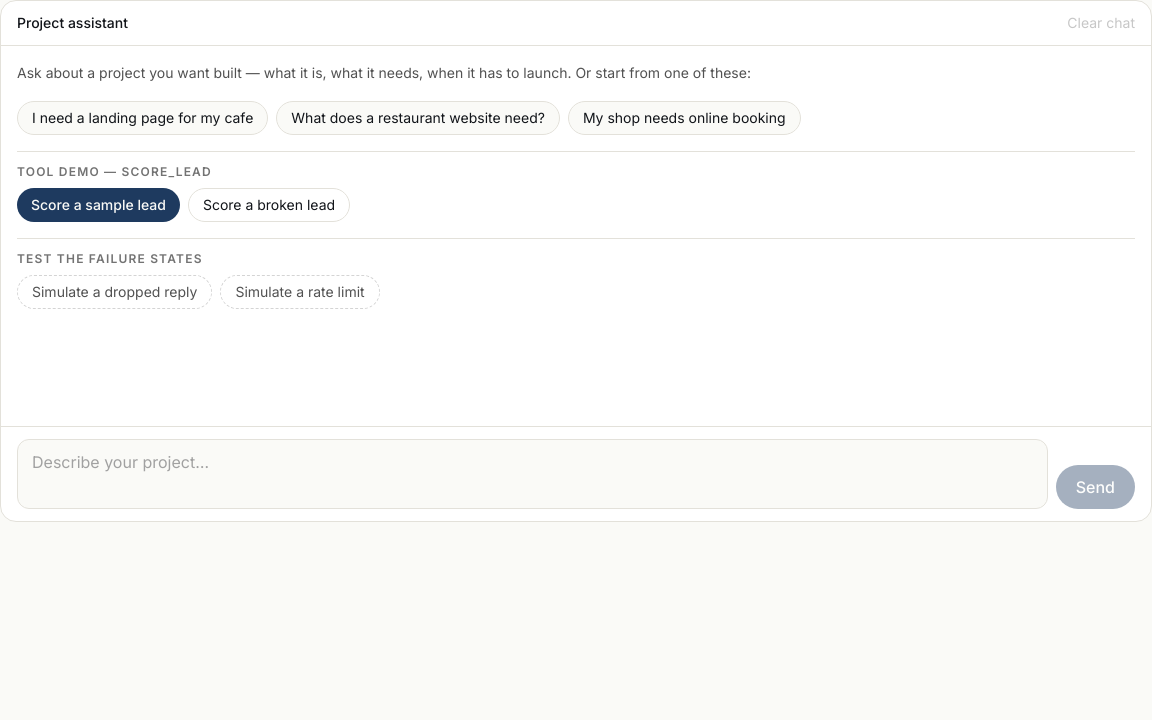
Scenario: Chat › a dropped stream keeps the partial and offers a retry of that message
Check: the button "Score a sample lead" is shown, box x1=17 y1=188 x2=180 y2=222
Type "What does Ahmed build?" into the text box labelled "Describe your project…" at (532, 474), box x1=17 y1=439 x2=1048 y2=509
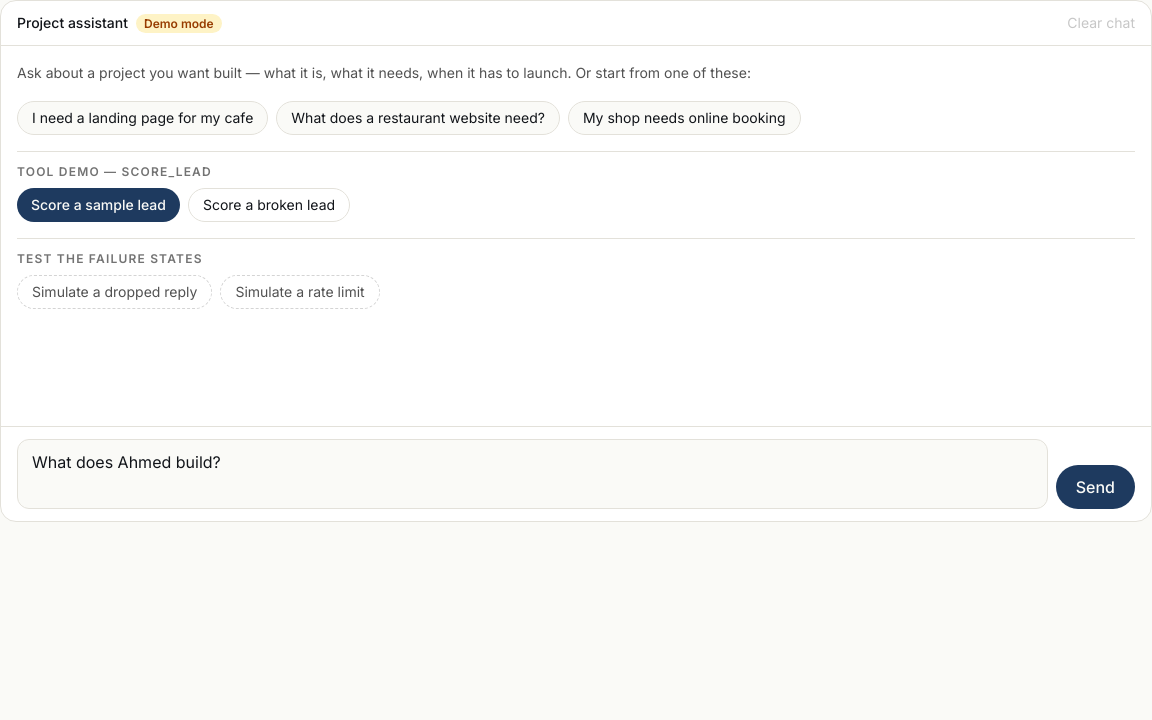
Click the button "Send" at (1095, 487), box x1=1056 y1=465 x2=1135 y2=509
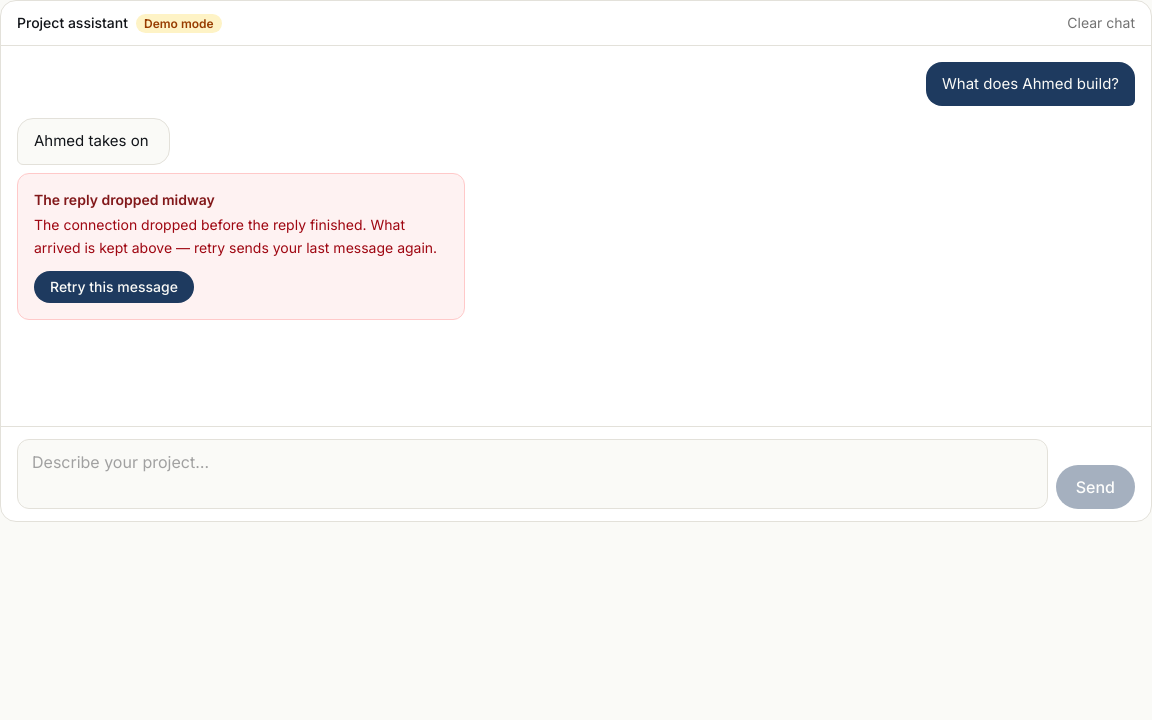
Check: the message shows "reply dropped midway", box x1=34 y1=191 x2=215 y2=208
Check: the text "Ahmed takes on" is shown, box x1=17 y1=118 x2=170 y2=165
Click the button "Retry this message" at (114, 287), box x1=34 y1=271 x2=194 y2=303
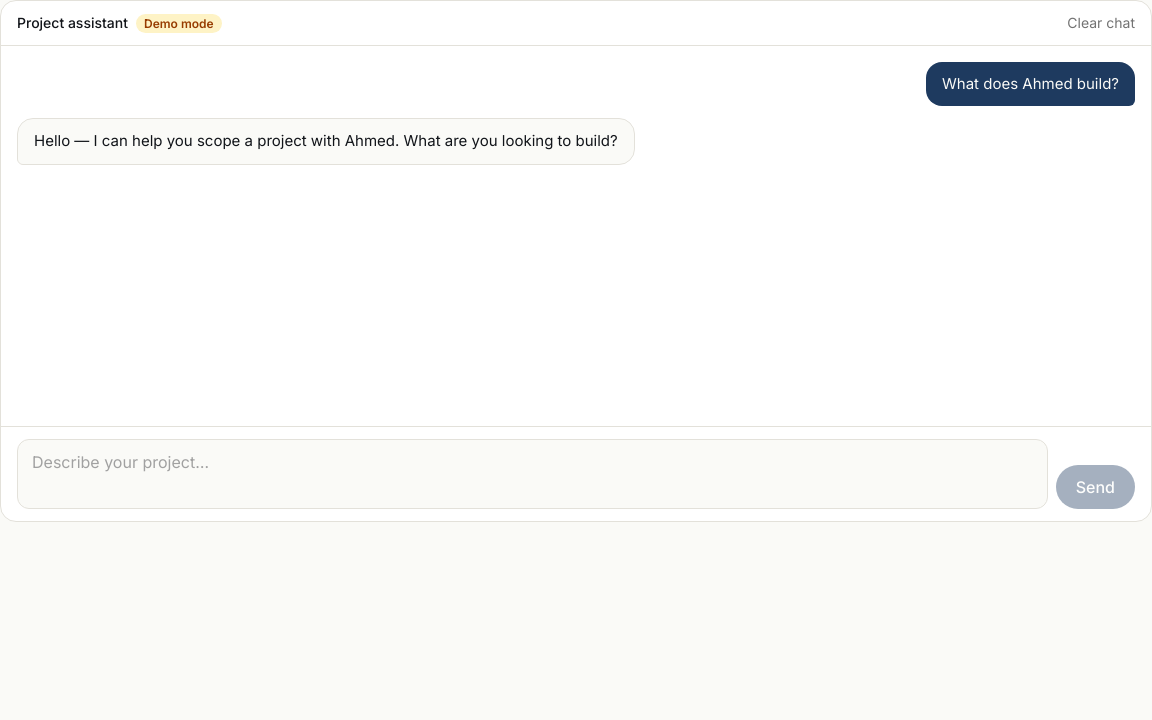
Check: the text "Hello — I can help you scope" is shown, box x1=34 y1=131 x2=618 y2=150
